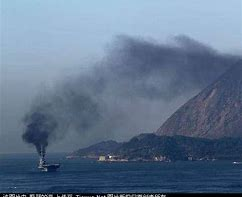smoke: (20, 88, 61, 151)
